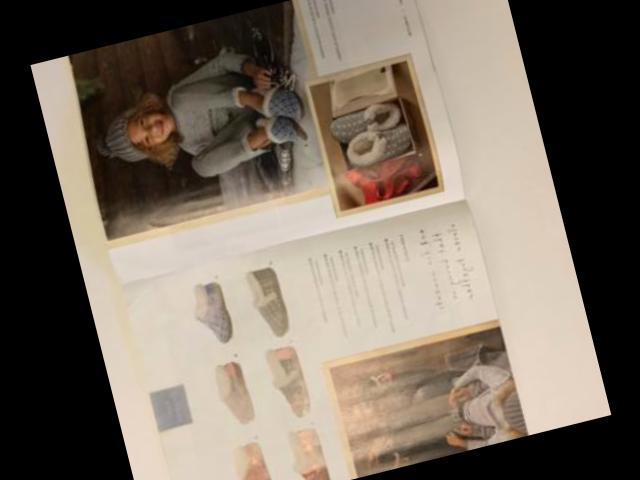cardboard paper: (69, 0, 528, 480)
